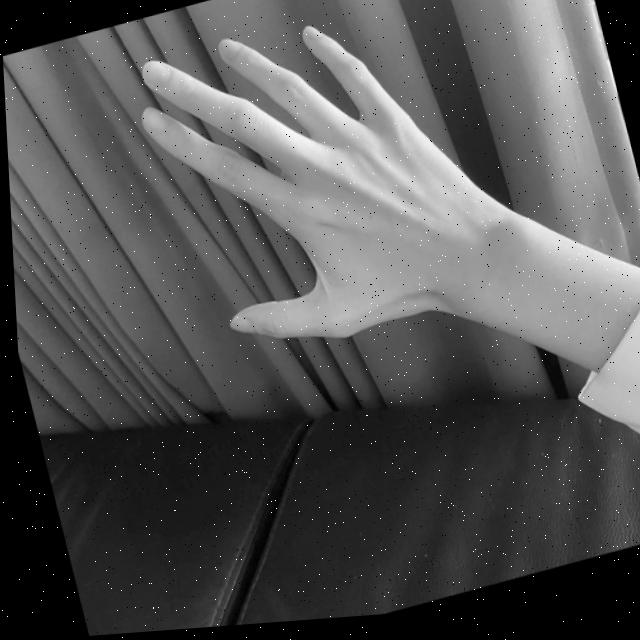hand: (123, 0, 503, 384)
